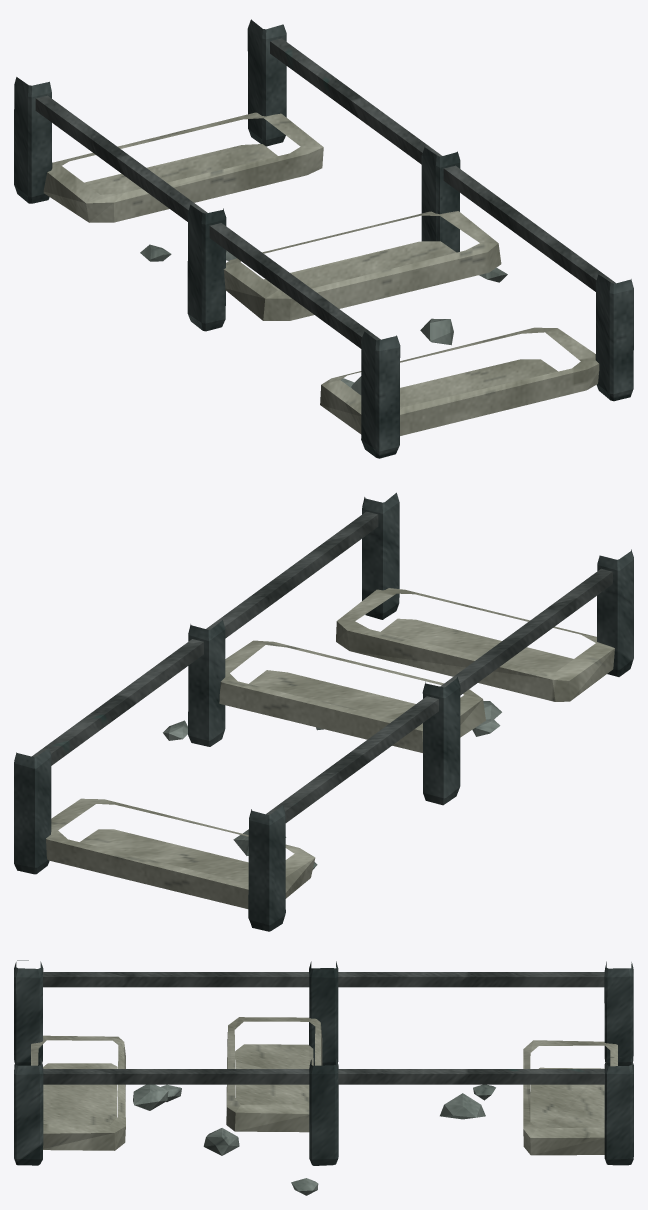
The model's file is 0393_ruined_bridge_18.glb.
3 views of the same model, one above another, from view 1: azimuth 30°, elevation 25°; view 2: azimuth 150°, elevation 25°; view 3: azimuth 270°, elevation 25° (orthographic). The views are drawn at different scales.
Parts seen in each view (by area): view 1: stone_light, stone_dark, iron, stone; view 2: stone_light, stone_dark, iron, stone; view 3: stone_light, iron, stone_dark, stone.
Boxes of the visible parts, left/top/right/bottom form: stone_light: left=43, top=112, right=599, bottom=435; stone_dark: left=14, top=19, right=633, bottom=458; iron: left=35, top=38, right=615, bottom=348; stone: left=140, top=244, right=507, bottom=394; stone_light: left=46, top=588, right=614, bottom=908; stone_dark: left=14, top=492, right=633, bottom=931; iron: left=32, top=511, right=612, bottom=822; stone: left=163, top=701, right=501, bottom=869; stone_light: left=31, top=1017, right=617, bottom=1155; iron: left=43, top=972, right=604, bottom=1084; stone_dark: left=14, top=960, right=633, bottom=1165; stone: left=133, top=1084, right=495, bottom=1195.
Bounding box in the file's own units: 2.53 × 1.1 × 5.35.
Materials: 4 (4 with a texture image).
